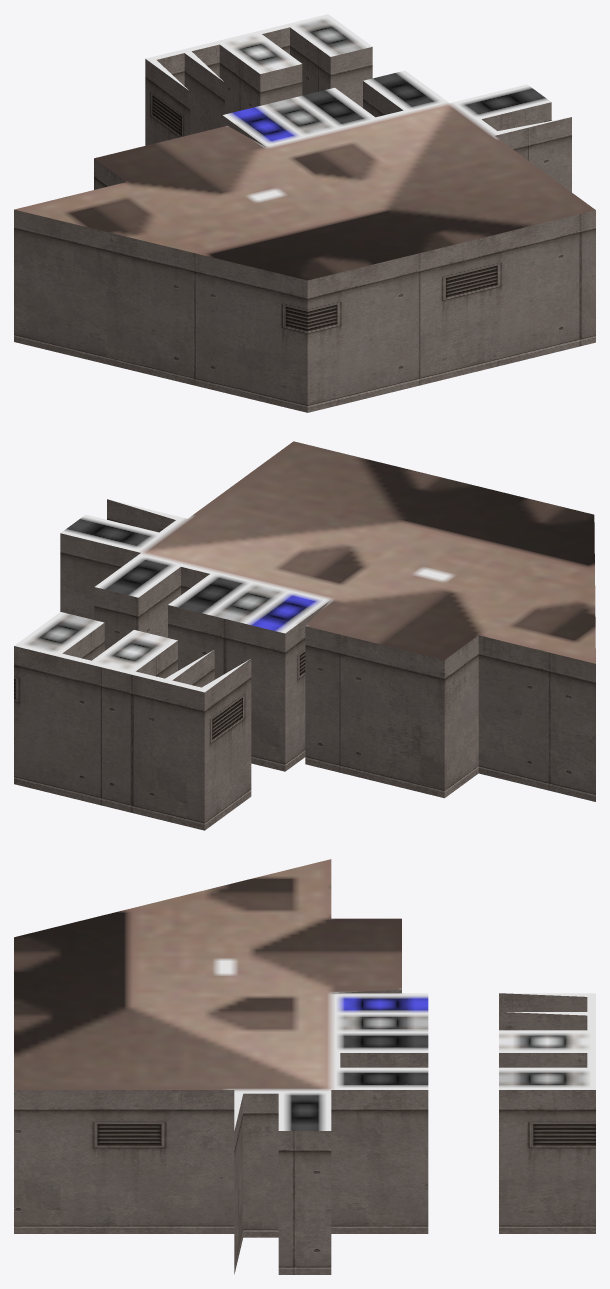
File: BuildingSystem-03-Advance-02-Medium-3-39-02.glb
3 renders of one model, top to bottom at view 1: azimuth 30°, elevation 25°; view 2: azimuth 150°, elevation 25°; view 3: azimuth 270°, elevation 25°, orthographic. The views are drawn at different scales.
Parts seen in each view (by area): view 1: buildings/saxarba/SMV_Buildings/BuildingSystem-03-Advance-02; view 2: buildings/saxarba/SMV_Buildings/BuildingSystem-03-Advance-02; view 3: buildings/saxarba/SMV_Buildings/BuildingSystem-03-Advance-02.
Part boxes in pixels (<box>): buildings/saxarba/SMV_Buildings/BuildingSystem-03-Advance-02: <box>14,14,595,412</box>; buildings/saxarba/SMV_Buildings/BuildingSystem-03-Advance-02: <box>14,441,595,830</box>; buildings/saxarba/SMV_Buildings/BuildingSystem-03-Advance-02: <box>14,859,595,1274</box>.
Bounding box in the file's own units: 73 × 18 × 66.
